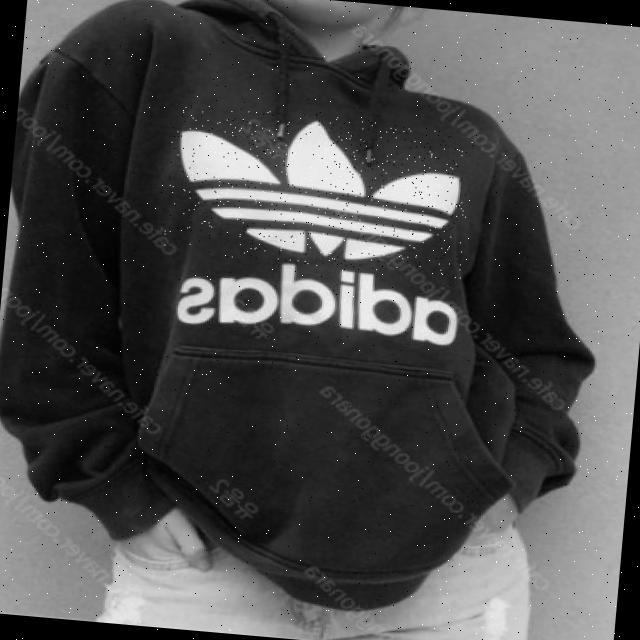Adidas: (162, 103, 475, 279)
